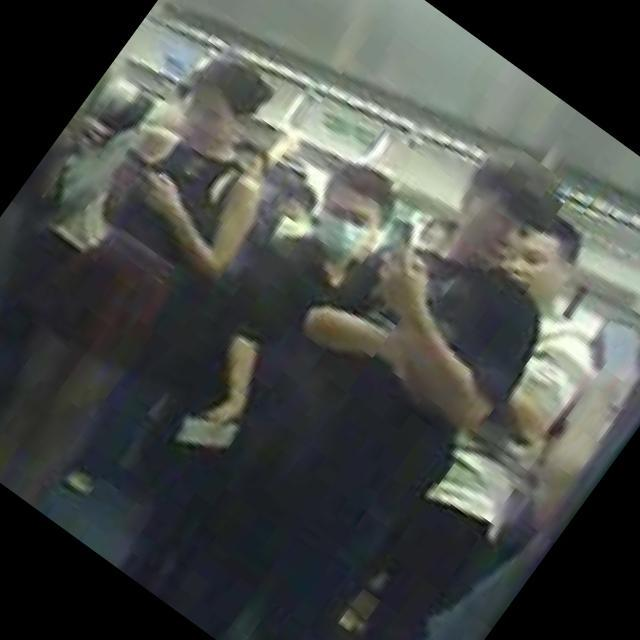person: (124, 108, 631, 640), (222, 196, 640, 640), (0, 31, 334, 515), (67, 140, 421, 579), (319, 341, 640, 640), (0, 64, 155, 423)
